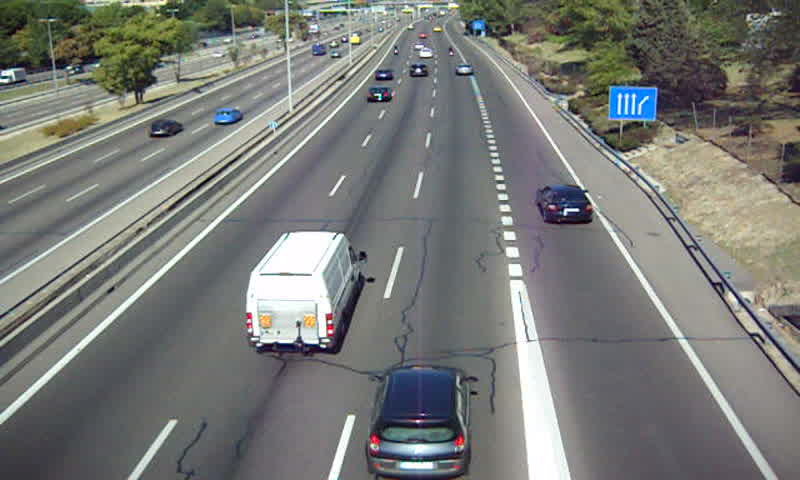car: (366, 364, 470, 477), (537, 186, 593, 223), (366, 86, 390, 104), (373, 66, 396, 82), (407, 63, 427, 79), (454, 62, 474, 76), (417, 47, 436, 59)
van: (246, 231, 367, 354)
